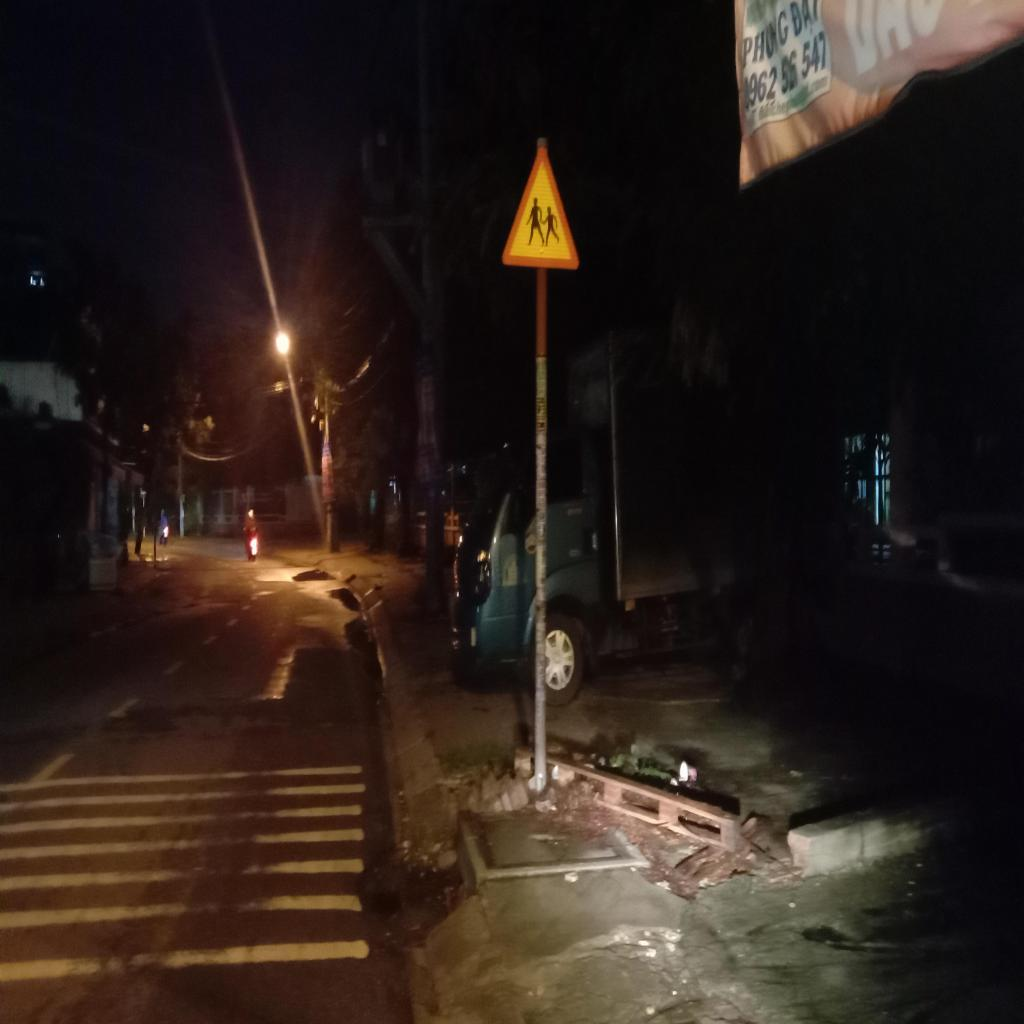chu_y_tre_em: (500, 139, 580, 271)
